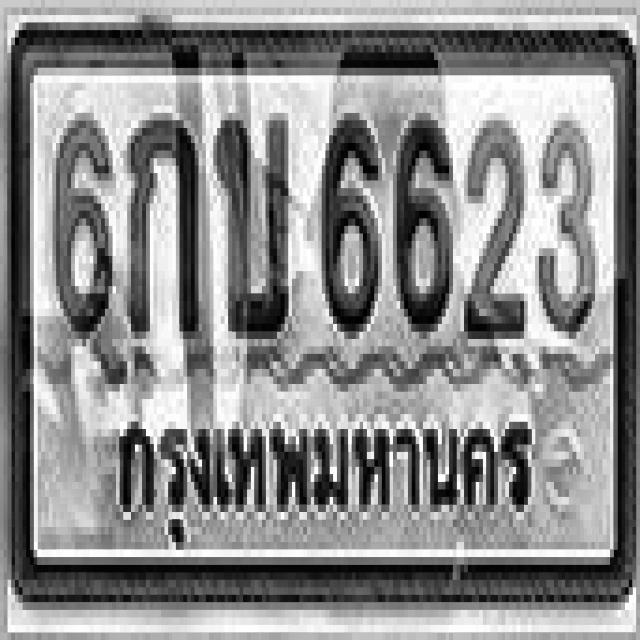license-plate: (12, 26, 633, 600)
